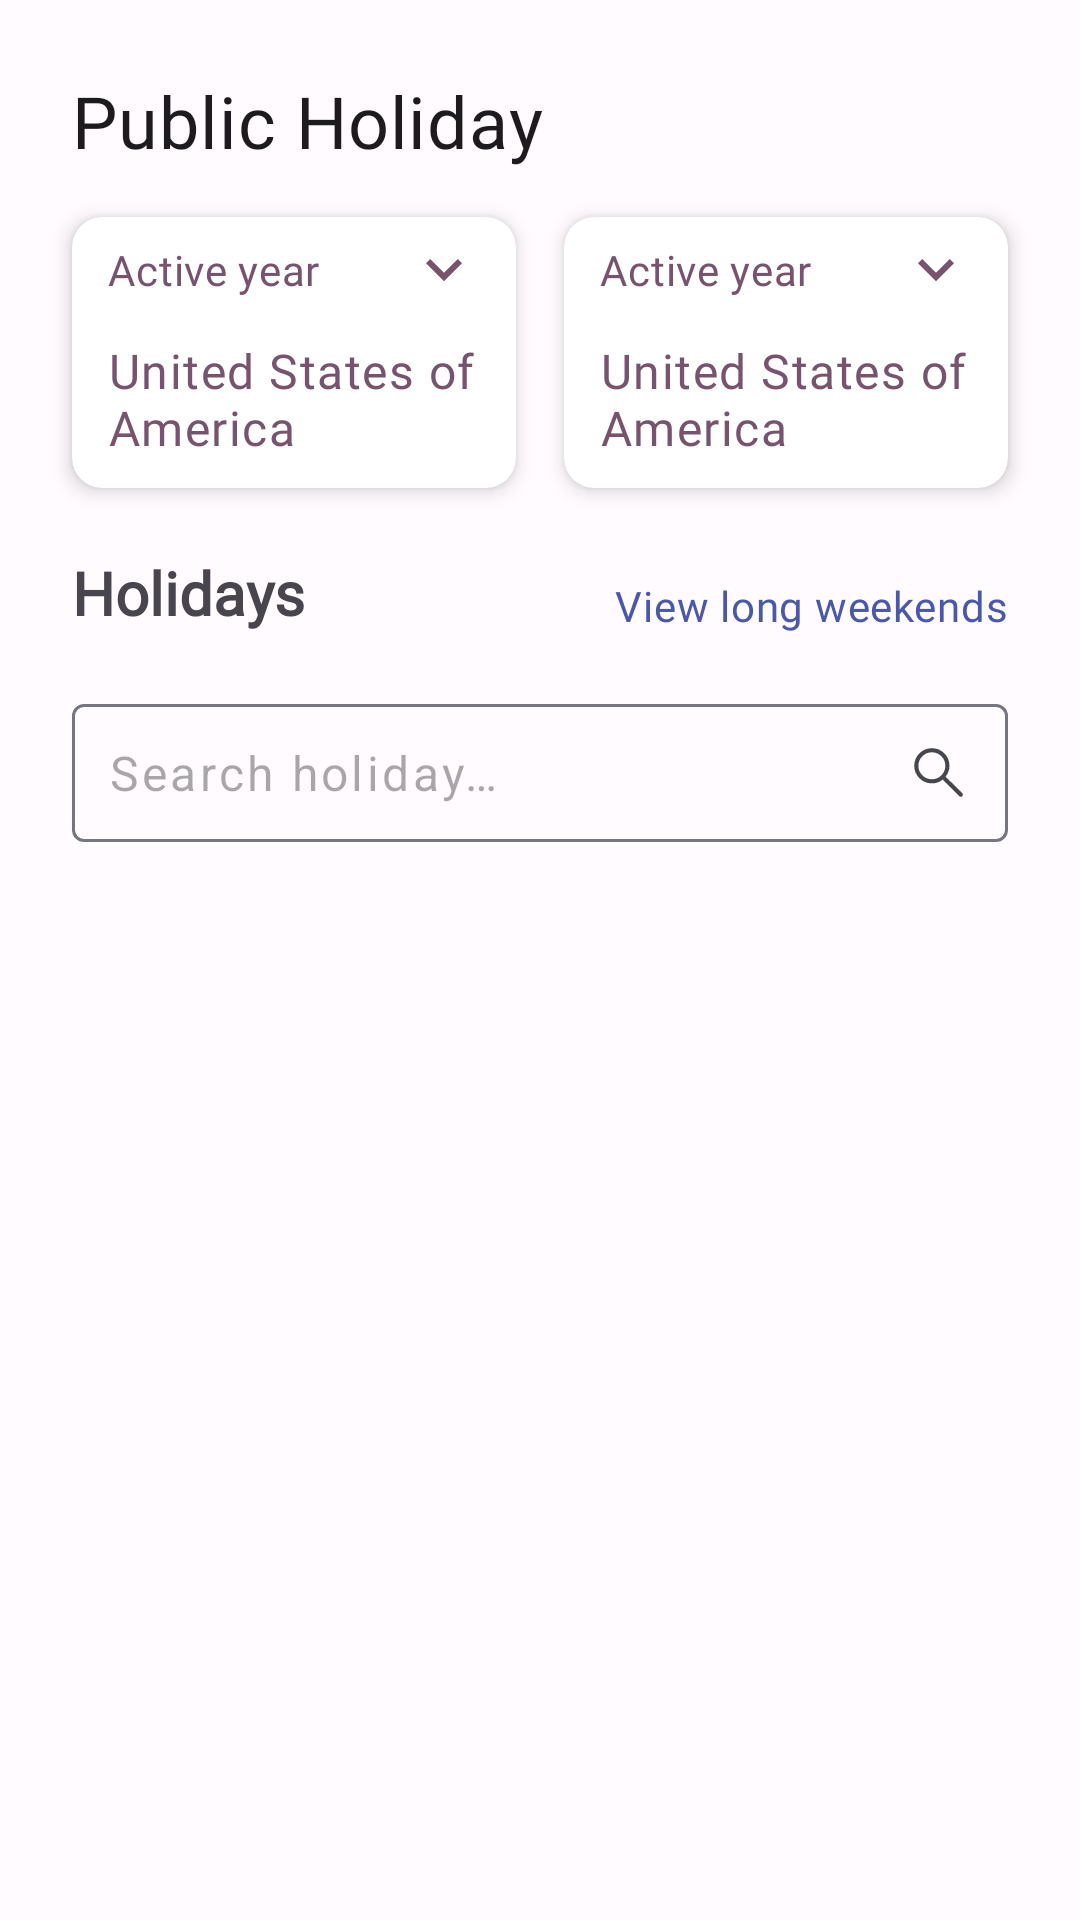

Icon bounding boxes for this 1080w x 1920h phone screenshot, format bbox=[x1, y1, x2, y2]:
expand more: bbox=[426, 259, 462, 281], bbox=[918, 259, 954, 281]
